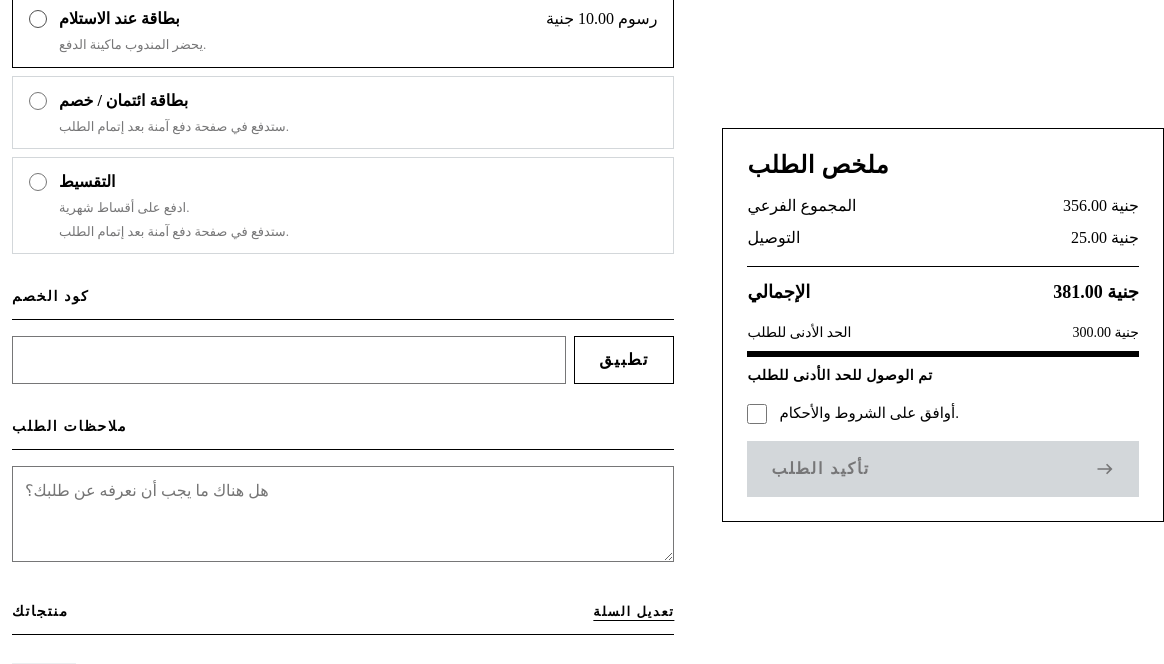
Test: CheckoutView: changing a choice › a refused code in Arabic: the backend message and the Arabic field
(page scrolled)
Type "NOPE" into the field named "promoCode" at (289,360), box [12,336,566,384]
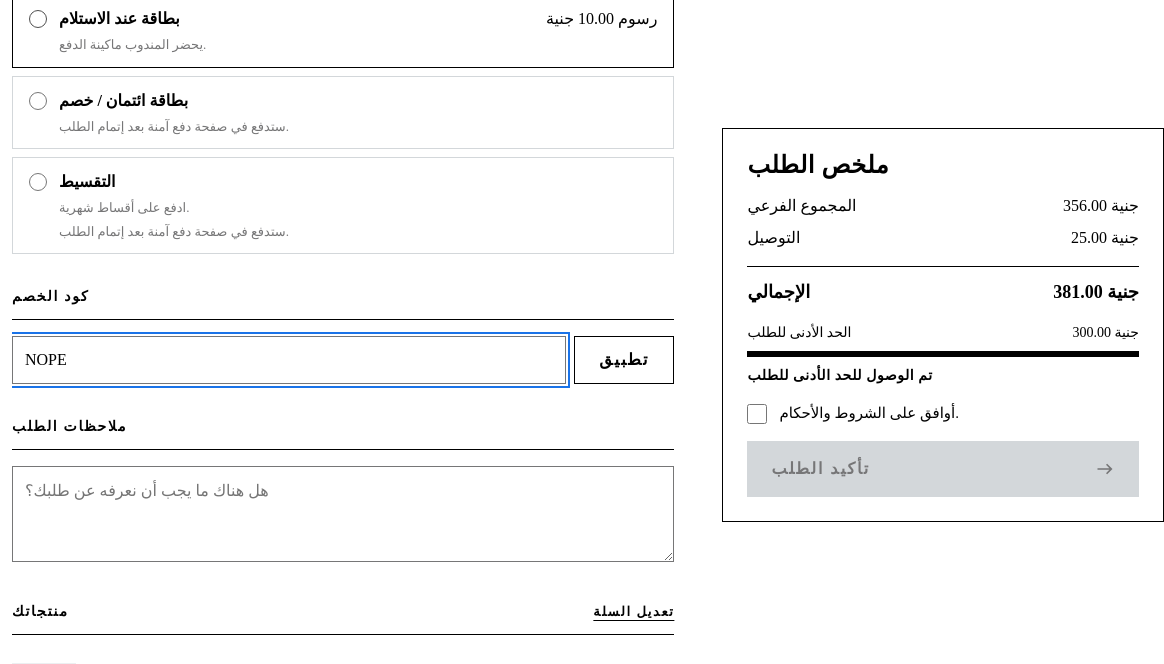
Click the button "تطبيق" at (624,360), box [574,336,674,384]
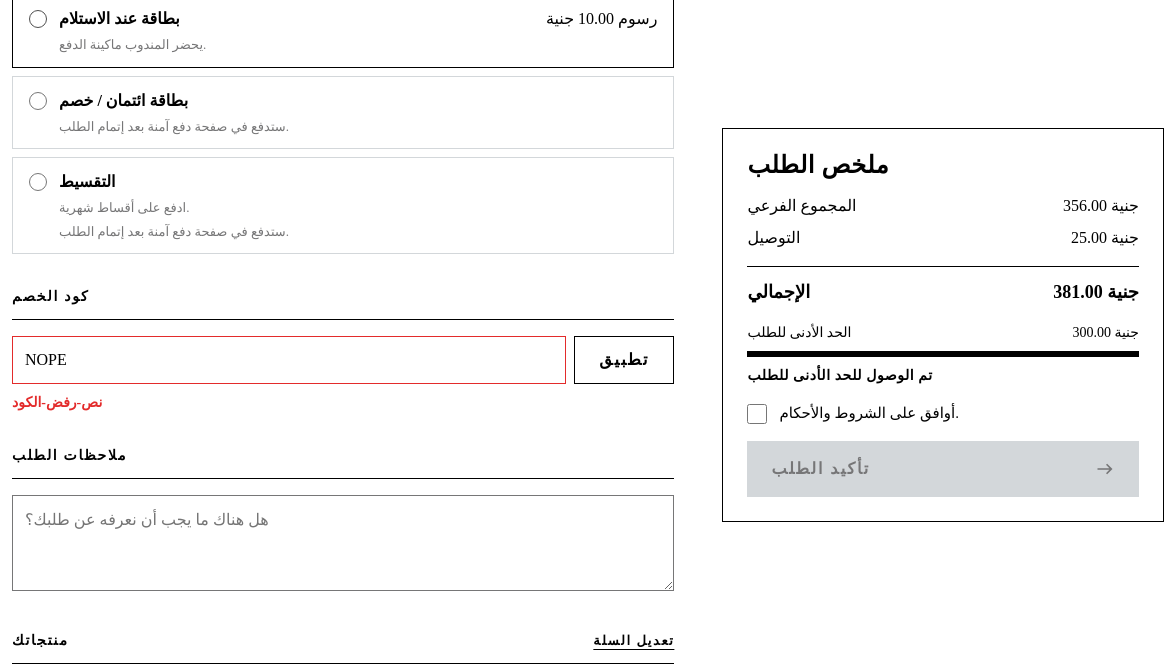
Expected: the message with test id "promo-message" reads "نص-رفض-الكود", [12,395,102,410]
